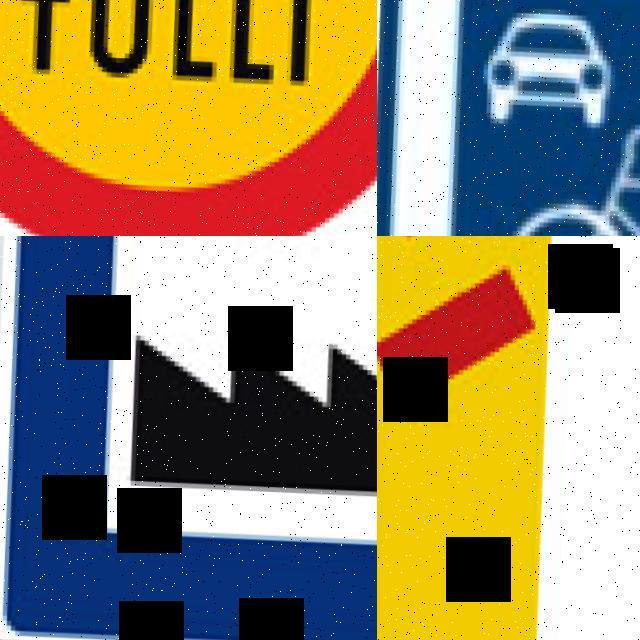117: (0, 0, 377, 236)
18: (377, 0, 640, 236)
4: (377, 236, 566, 640)
59: (0, 236, 377, 640)
Passing without stopping prohibited: (0, 0, 377, 236)
